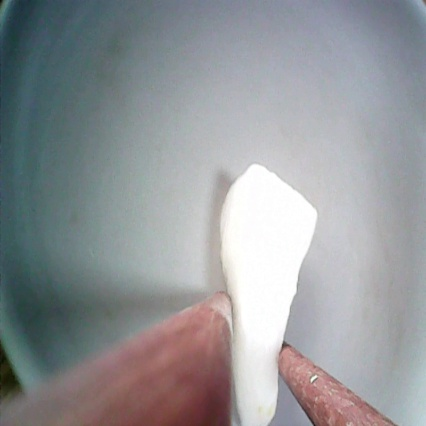white_chinese-yam: (214, 155, 327, 426)
